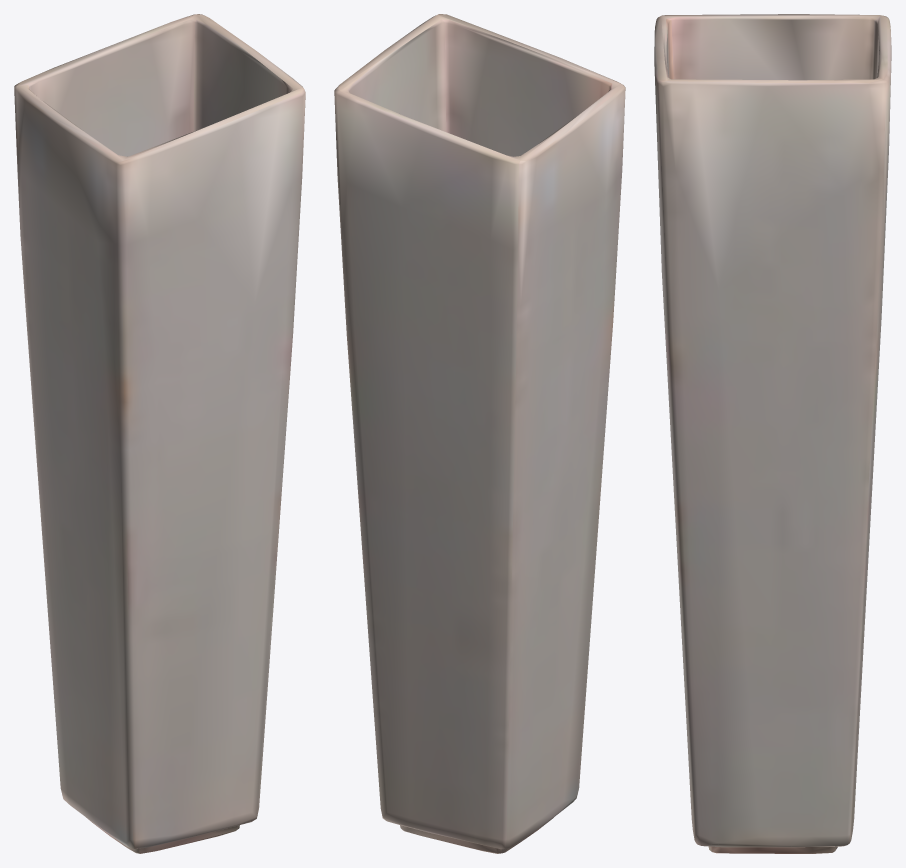
Rendered from vase-tall-lightweight-28f1f90b22.glb.
The picture shows the model from 3 angles, left to right: view 1: azimuth 30°, elevation 25°; view 2: azimuth 150°, elevation 25°; view 3: azimuth 270°, elevation 25°; orthographic projection. The views are drawn at different scales.
Parts seen in each view (by area): view 1: ceramic_vase_03; view 2: ceramic_vase_03; view 3: ceramic_vase_03.
Part boxes in pixels (bbox=[...]): ceramic_vase_03: bbox=[14, 14, 305, 853]; ceramic_vase_03: bbox=[334, 14, 625, 853]; ceramic_vase_03: bbox=[654, 14, 891, 853].
Size of the model in its own units: 0.1124 by 0.4143 by 0.1123.
1 material, 1 textured.
